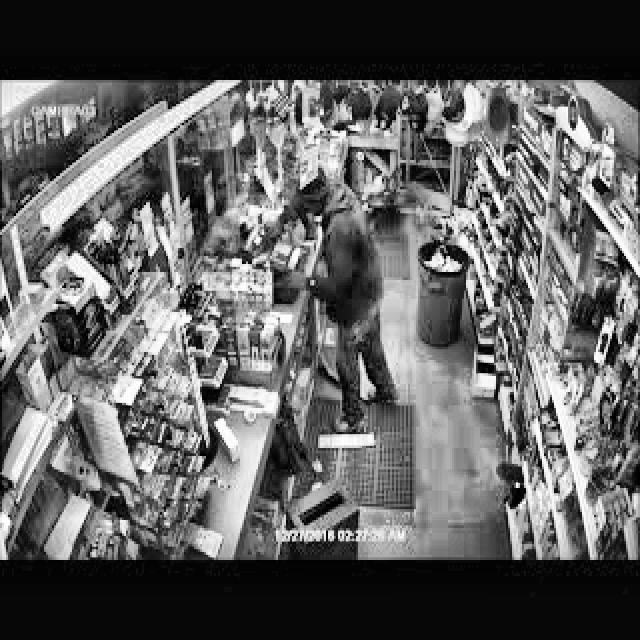burglary: (258, 166, 404, 440)
